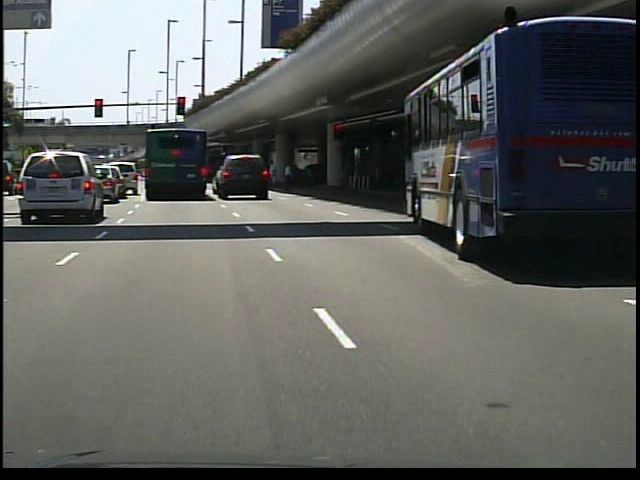person: (277, 157, 297, 194)
